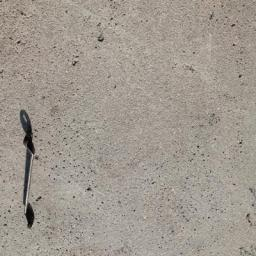FOD: (23, 127, 42, 232)
